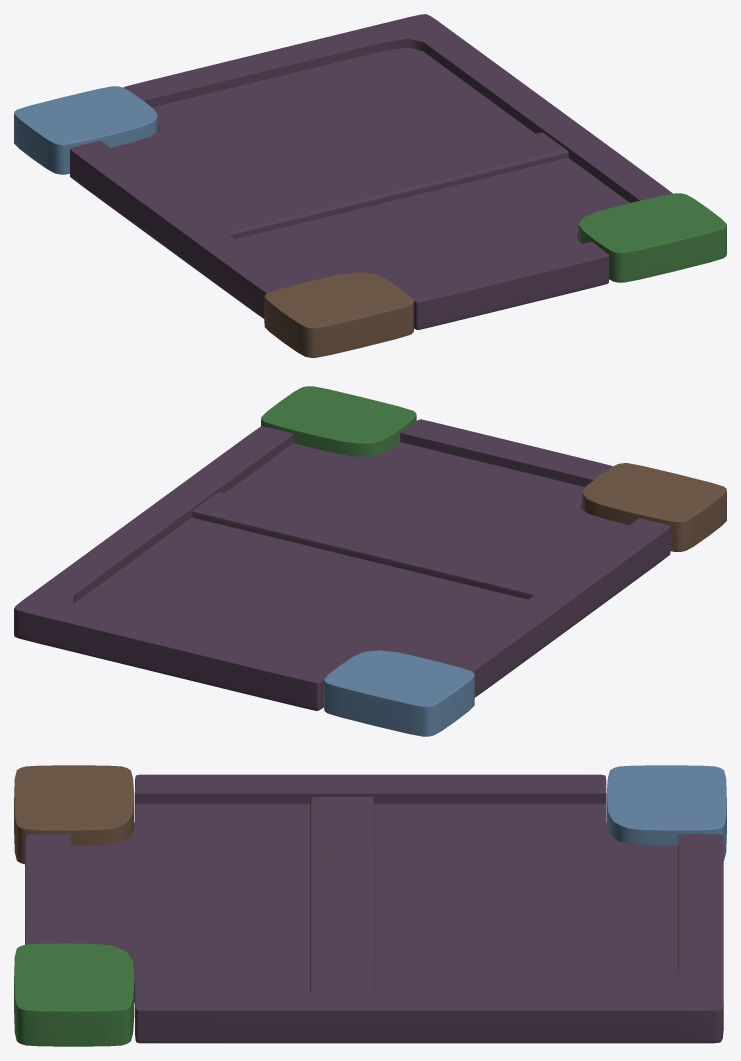
The model's file is Card.fbx.
3 renders of one model, top to bottom at view 1: azimuth 30°, elevation 25°; view 2: azimuth 150°, elevation 25°; view 3: azimuth 270°, elevation 25°, orthographic. The views are drawn at different scales.
Visible parts, largest first — view 1: pCube1, pCube6, pCube8, pCube12, pCube13; view 2: pCube1, pCube6, pCube13, pCube8, pCube12; view 3: pCube1, pCube6, pCube12, pCube8, pCube13.
Part boxes in pixels (x1,y1,x2,y2): pCube1: (70,14,672,329); pCube6: (202,132,568,238); pCube8: (264,272,413,357); pCube12: (578,193,726,282); pCube13: (14,86,157,174); pCube1: (14,419,670,710); pCube6: (192,492,560,599); pCube13: (324,650,474,736); pCube8: (582,463,726,551); pCube12: (261,386,416,456); pCube1: (25,774,723,1043); pCube6: (310,797,374,991); pCube12: (14,943,134,1046); pCube8: (14,765,134,864); pCube13: (606,765,726,860).
Bounding box in the file's own units: 1.39 × 0.0993 × 1.7.
